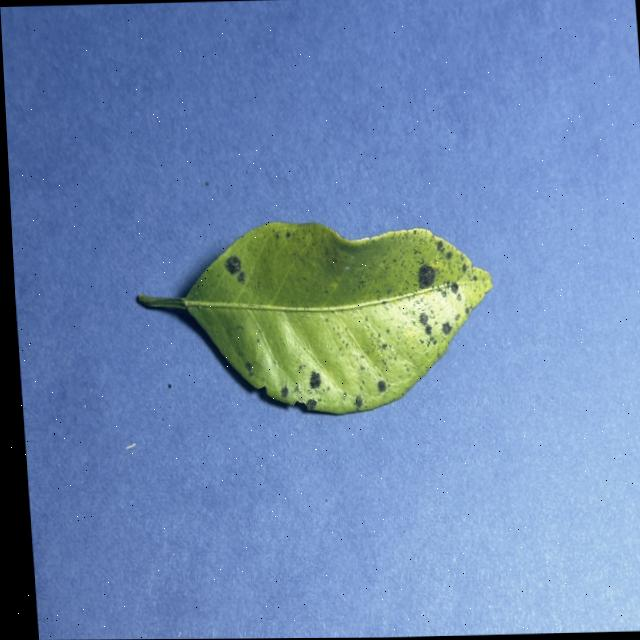sooty_mold: (138, 221, 491, 412)
